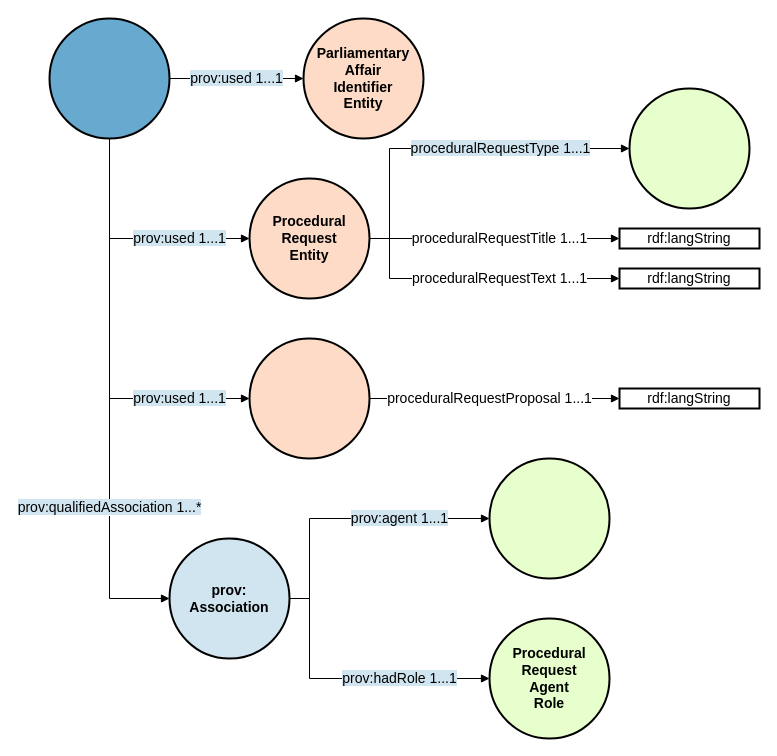
Some shapes in this 777 by 756 pixel diagram are drawn without their labels. The centre of each missing label's shape, as x and y in pixels:
"foaf:Agent" goes at point (549, 518).
"Procedural Request Proposal Activity" goes at point (109, 78).
"Procedural Request Proposal Entity" goes at point (309, 398).
"Procedural Request Type" goes at point (689, 148).
